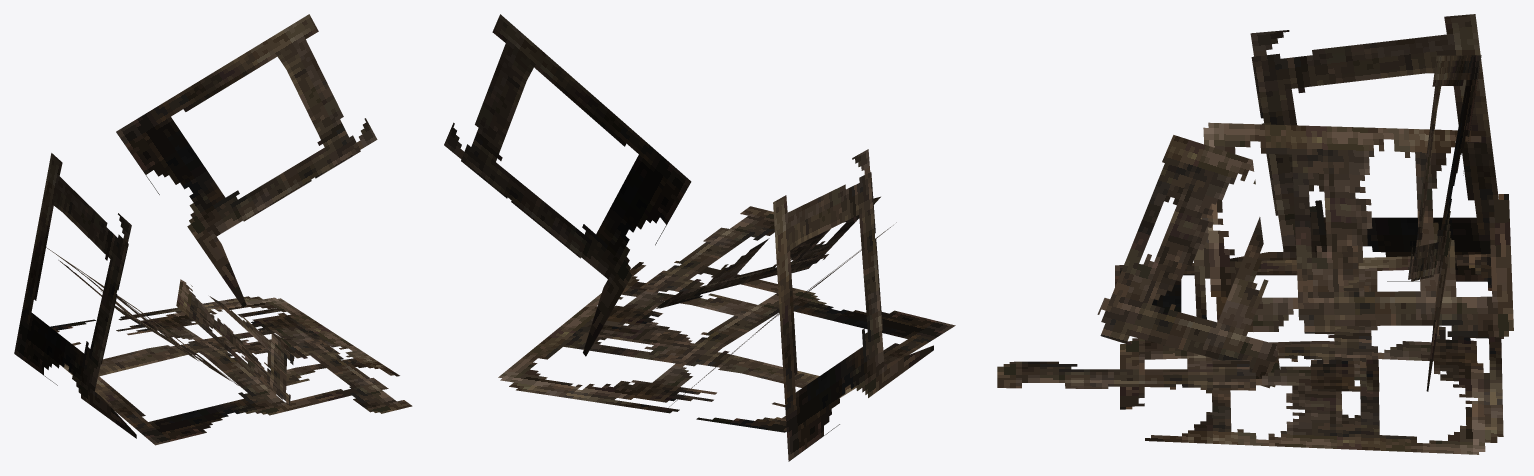
The model's file is WCRATE1X.glb.
The picture shows the model from 3 angles, left to right: view 1: azimuth 30°, elevation 25°; view 2: azimuth 150°, elevation 25°; view 3: azimuth 270°, elevation 25°; orthographic projection. The views are drawn at different scales.
Parts seen in each view (by area): view 1: _WCRATE1X; view 2: _WCRATE1X; view 3: _WCRATE1X.
Part boxes in pixels (<box>): _WCRATE1X: <box>14,14,412,445</box>; _WCRATE1X: <box>444,14,955,461</box>; _WCRATE1X: <box>997,14,1513,454</box>.
Size of the model in its own units: 1.08 by 0.9941 by 1.08.
1 material, 1 textured.
